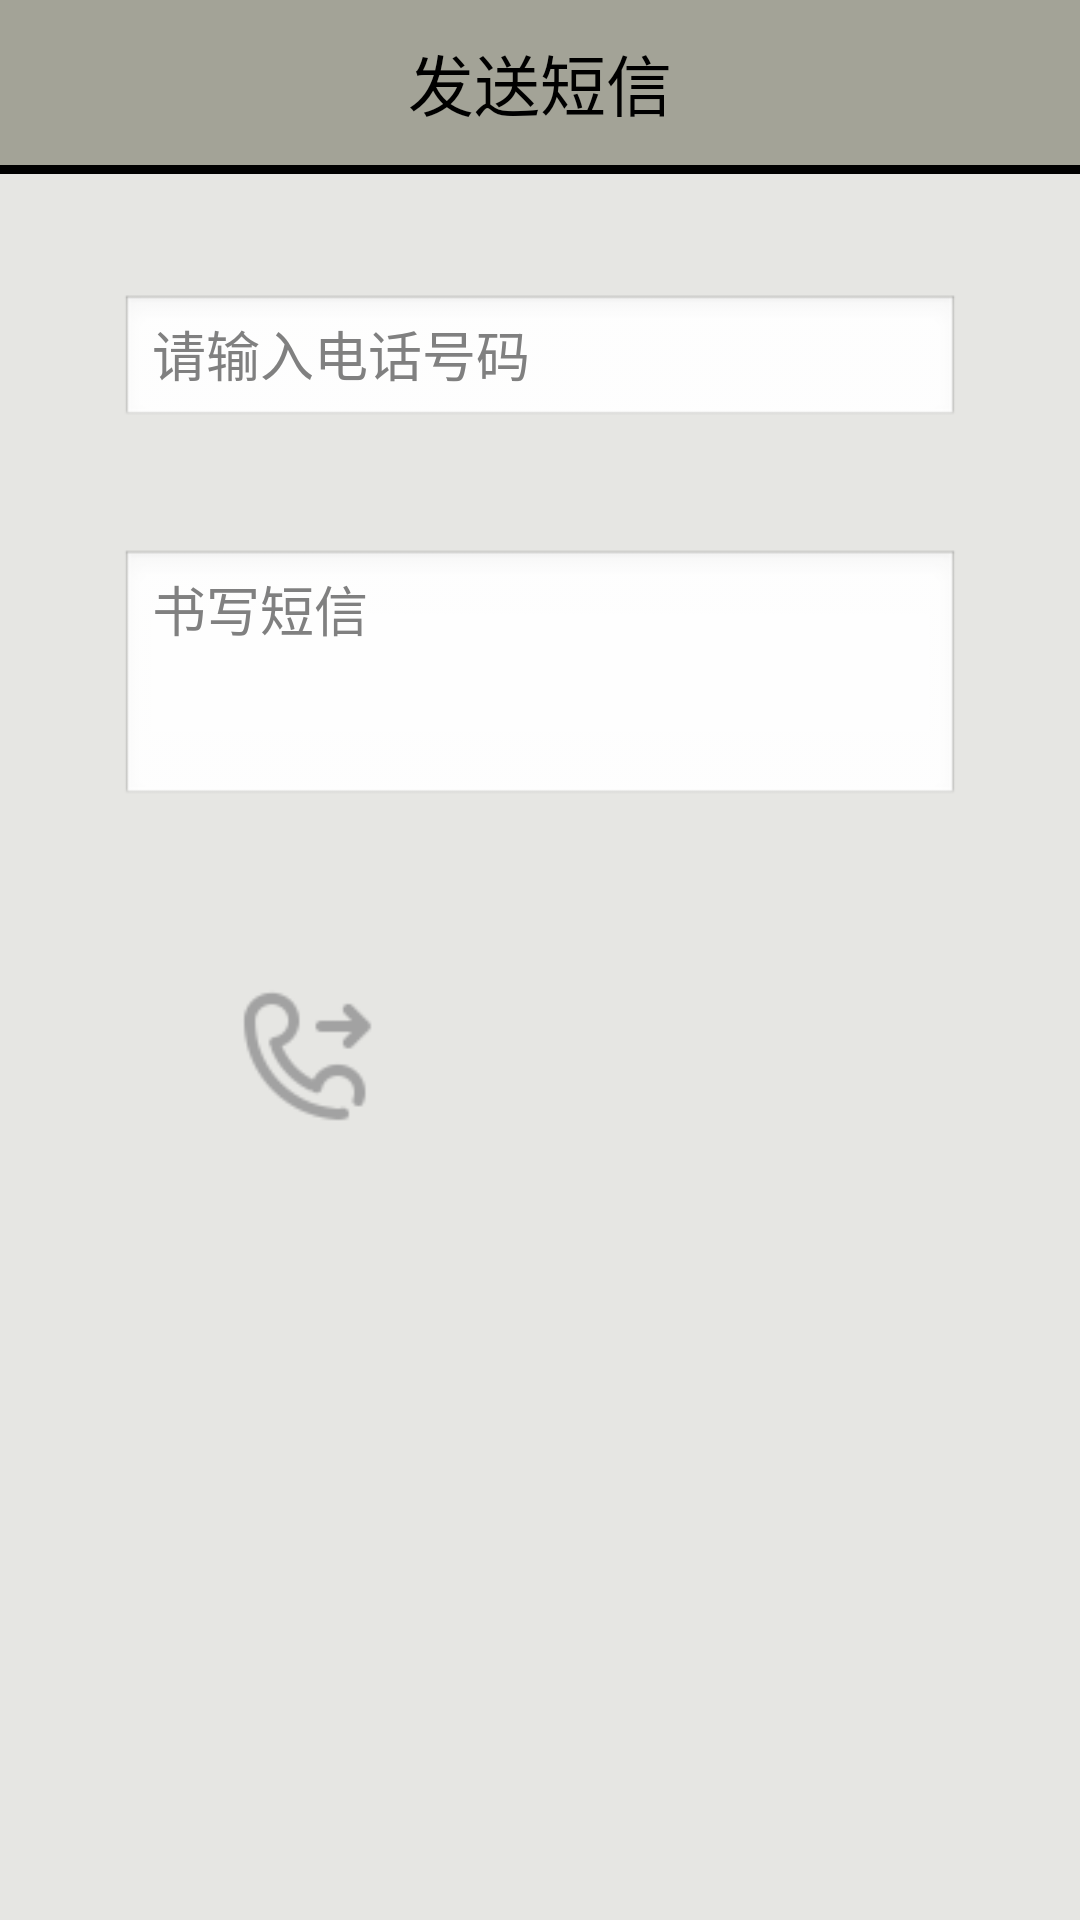

Named icons in this screenshot (1080 x 1920) and their bounding boxes, (x1, y1, x2, y2):
calll: (244, 993, 371, 1120)
